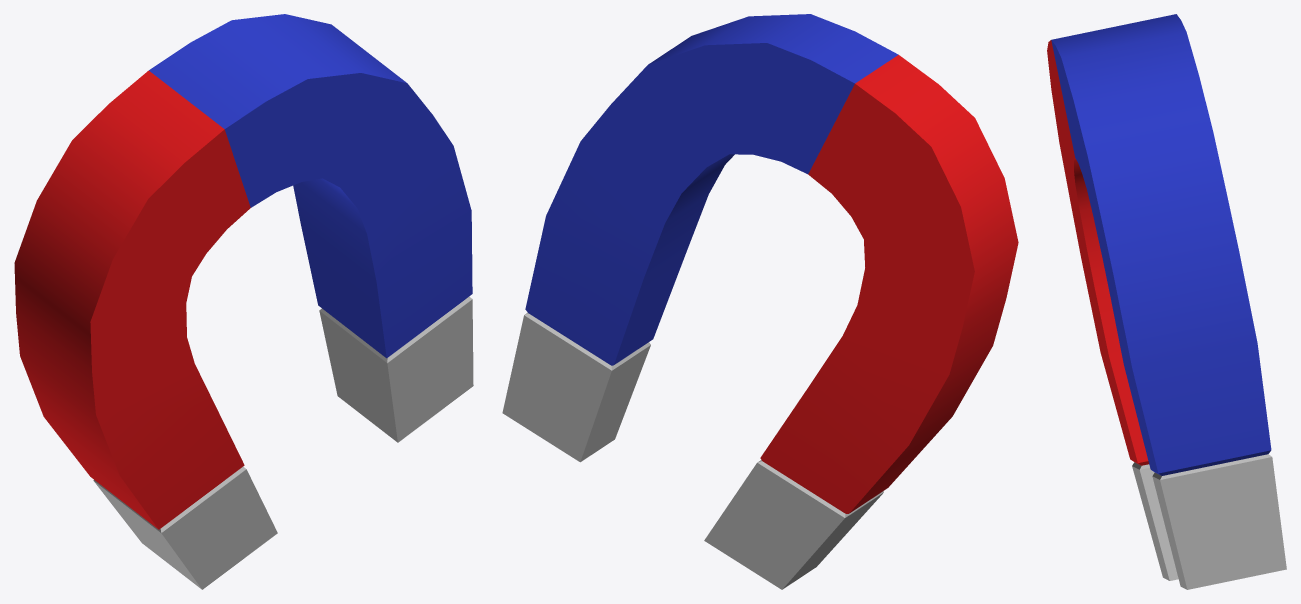
Rendered from Ima.fbx.
3 renders of one model, left to right at view 1: azimuth 30°, elevation 25°; view 2: azimuth 150°, elevation 25°; view 3: azimuth 270°, elevation 25°, orthographic. The views are drawn at different scales.
Visible parts, largest first — view 1: Ima; view 2: Ima; view 3: Ima.
Part boxes in pixels (box(x1,y1,x2,y2)): Ima: box(14, 14, 473, 589); Ima: box(502, 14, 1018, 589); Ima: box(1047, 14, 1286, 589).
Bounding box in the file's own units: 131 × 150 × 57.7.
